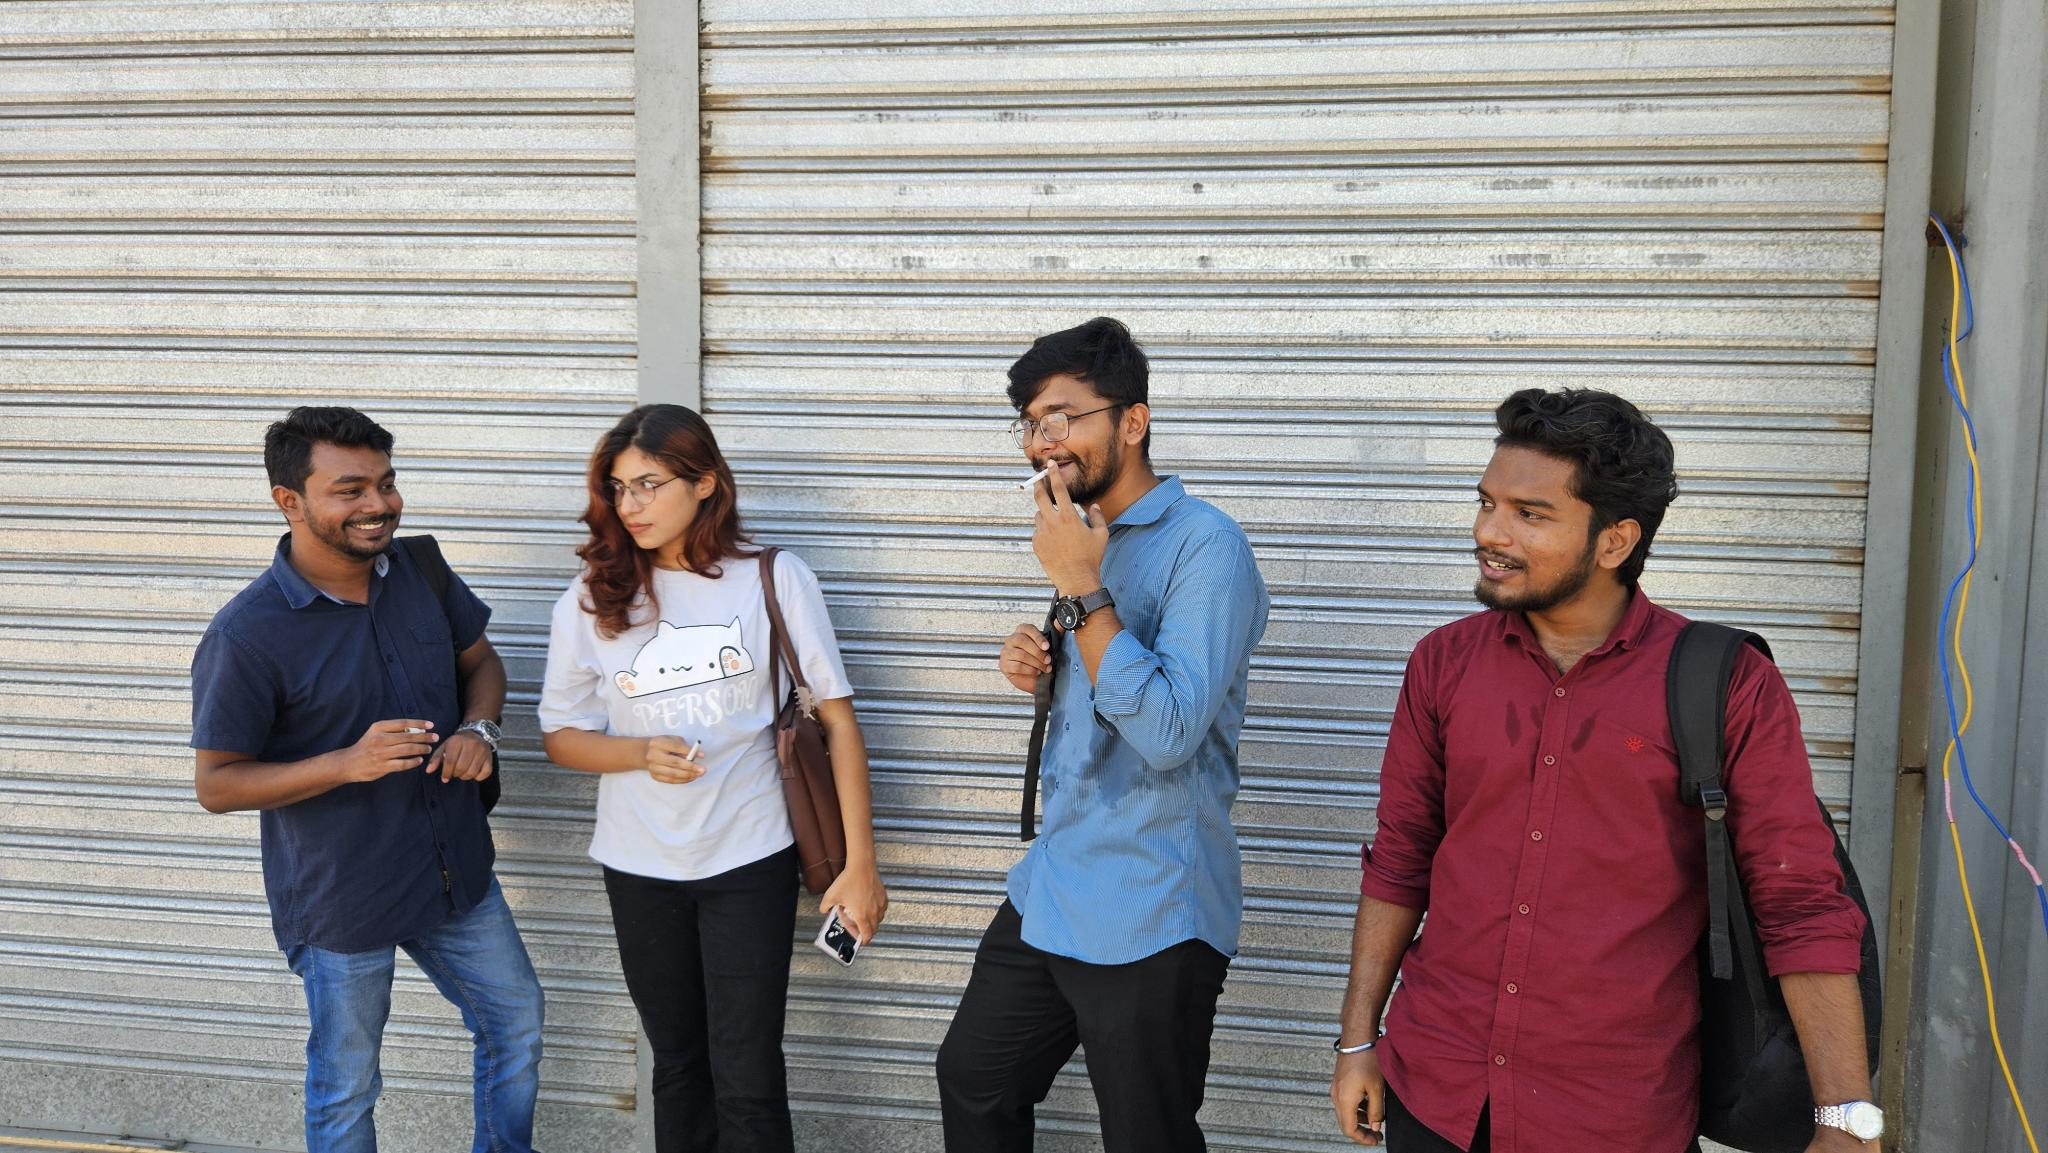cigarette: (1018, 465, 1049, 492), (685, 738, 703, 762), (402, 726, 428, 735)
nonSmoker: (1335, 387, 1882, 1153)
smoker: (937, 318, 1272, 1153), (190, 405, 546, 1153), (537, 404, 888, 1153)
